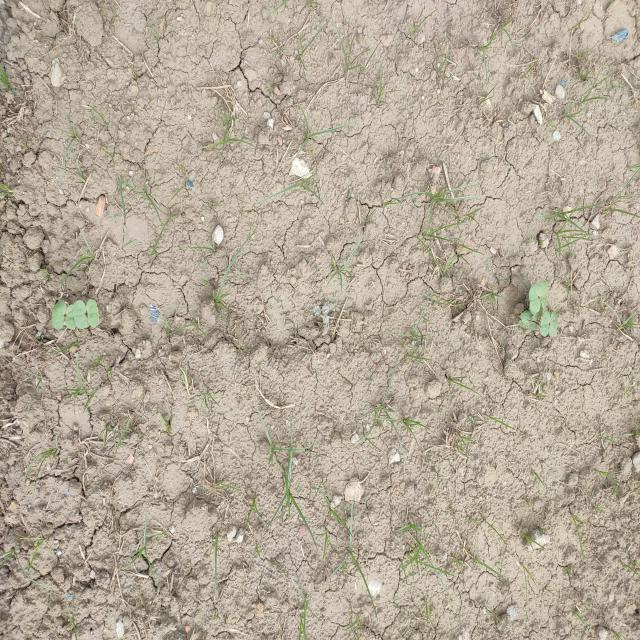seedling_s2: (51, 300, 66, 330), (73, 300, 88, 329), (86, 299, 99, 327), (529, 284, 541, 313), (540, 311, 551, 337), (65, 304, 75, 330), (549, 311, 558, 337), (518, 320, 538, 330), (520, 310, 538, 321), (540, 281, 547, 309)
